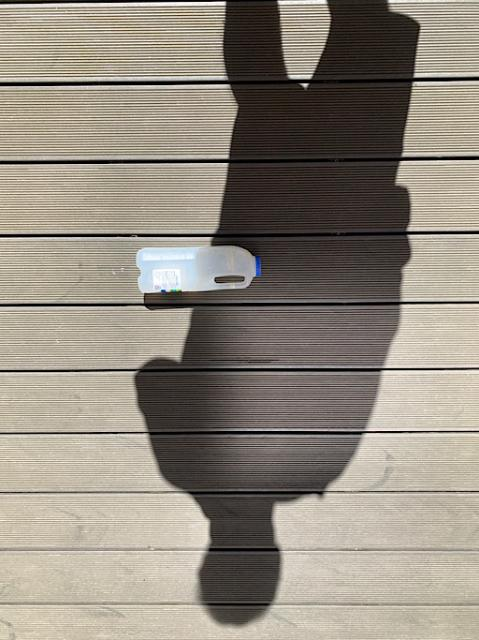plastic: (136, 245, 260, 291)
